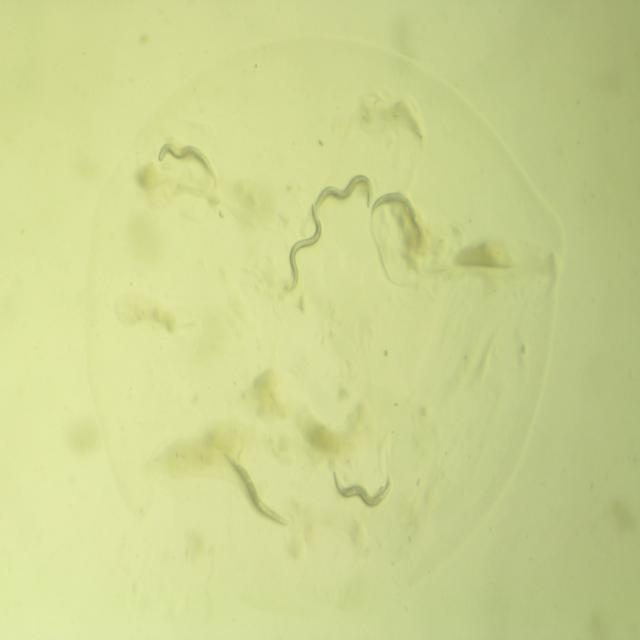worm: (222, 449, 291, 530), (279, 195, 324, 303), (369, 189, 429, 255), (308, 170, 378, 223), (329, 463, 396, 514), (152, 139, 216, 184)
